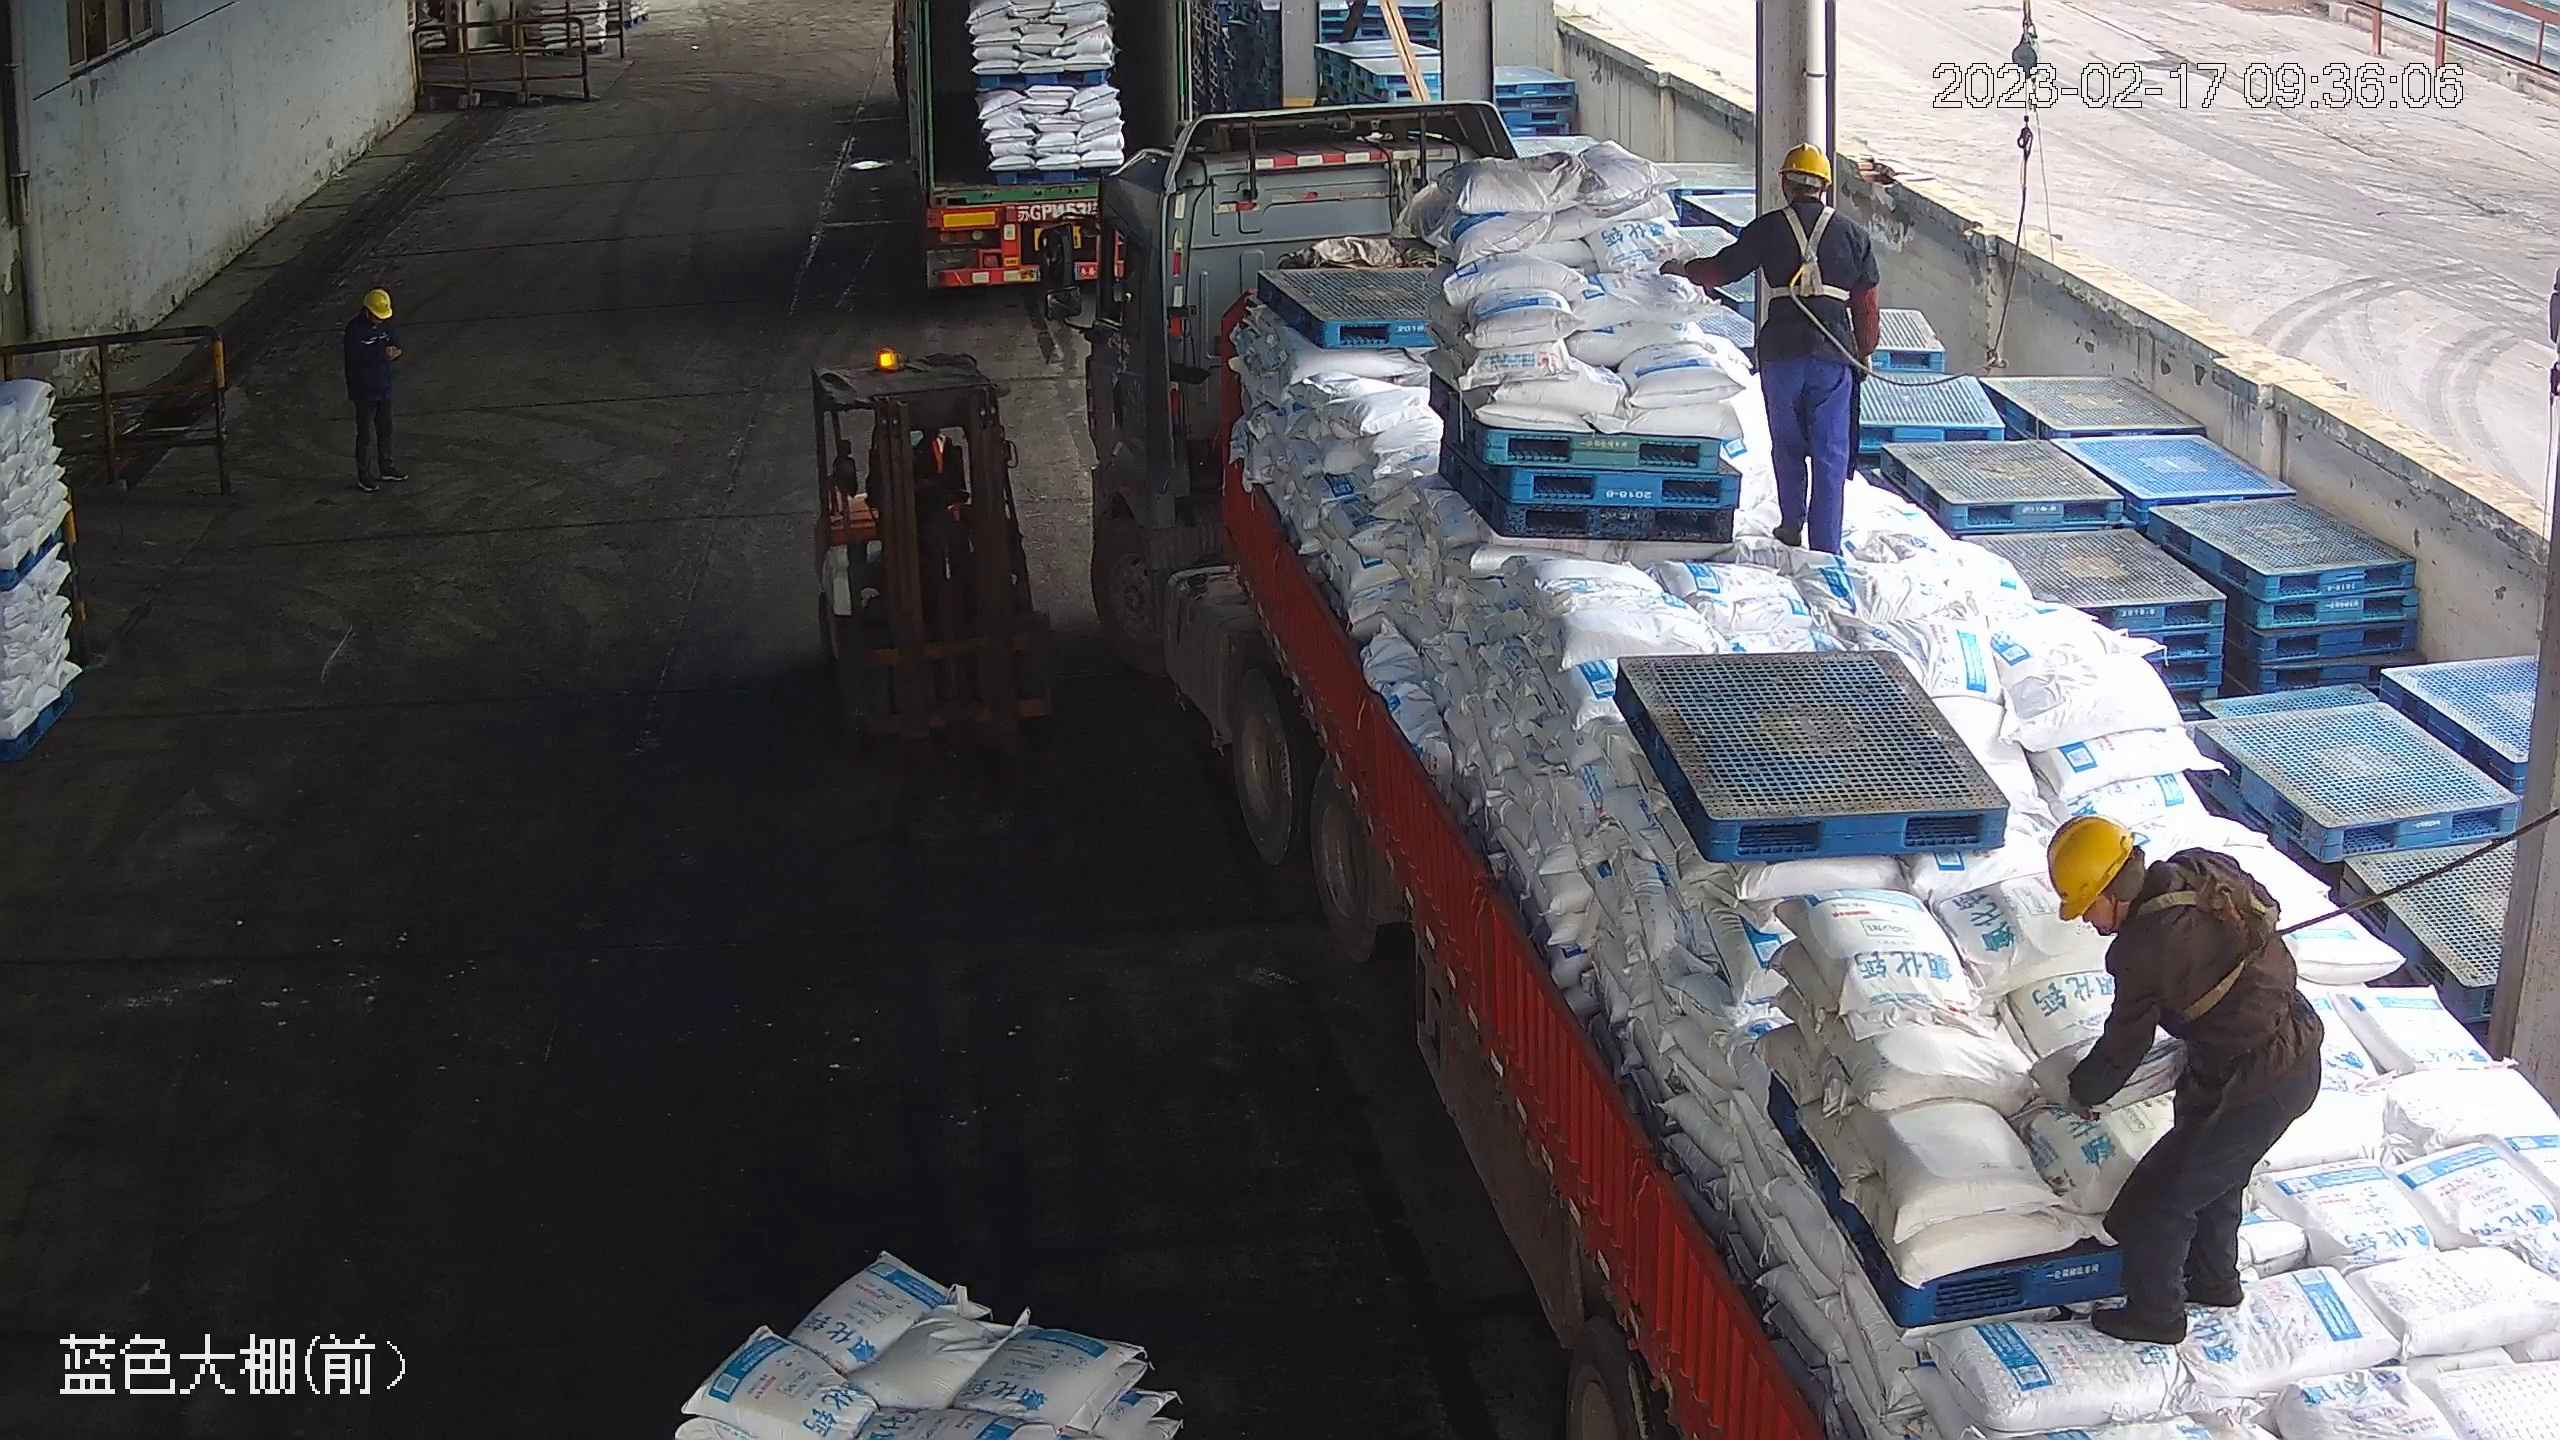belt: (2140, 858, 2285, 1022), (1760, 208, 1856, 308)
head: (2043, 811, 2257, 986), (1744, 144, 1865, 253), (339, 286, 399, 353)
helmet: (2043, 812, 2138, 921), (1777, 143, 1835, 186), (361, 285, 392, 315)
people: (2042, 811, 2326, 1347), (1686, 139, 1880, 558), (339, 286, 413, 492)
truck: (1057, 102, 2554, 1439), (885, 2, 1204, 318)
